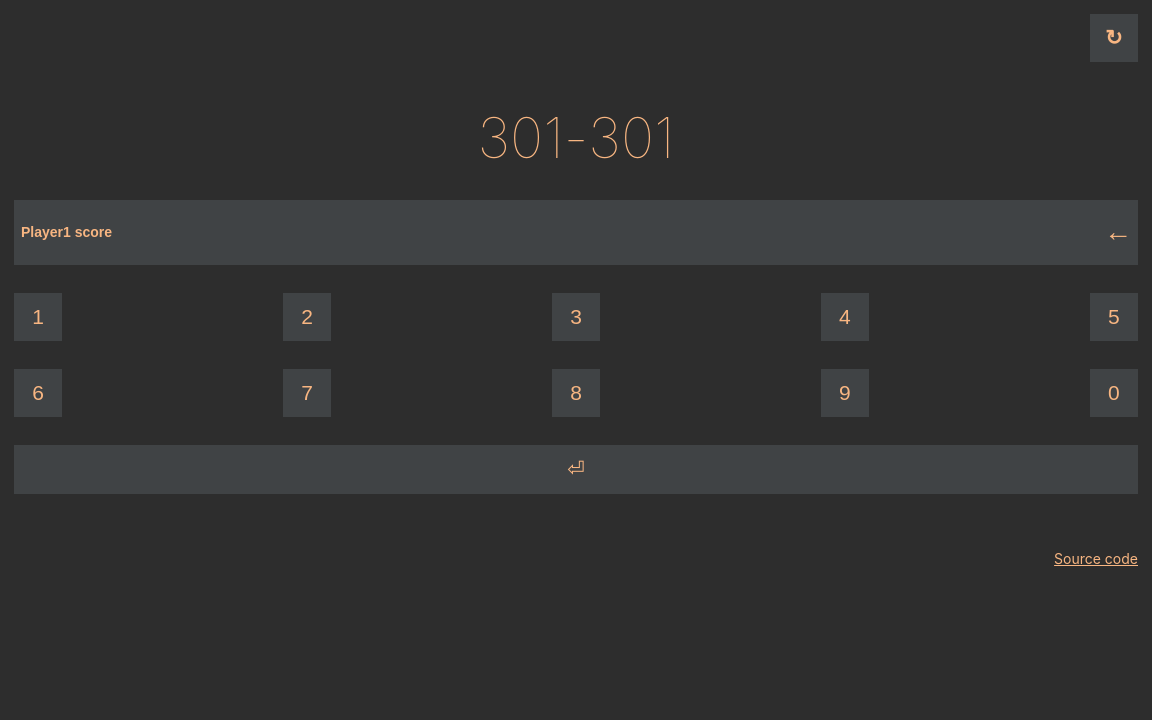
scoreboard › allows players to enter their scores
The width and height of the screenshot is (1152, 720).
Check: the text with test id "player1Score" reads "301", box [478,104,564,172]
Check: the text with test id "player2Score" reads "301", box [588,104,674,172]
// Player1 turn
Click the button with test id "numberButton1": (38, 317) [14,293,62,341]
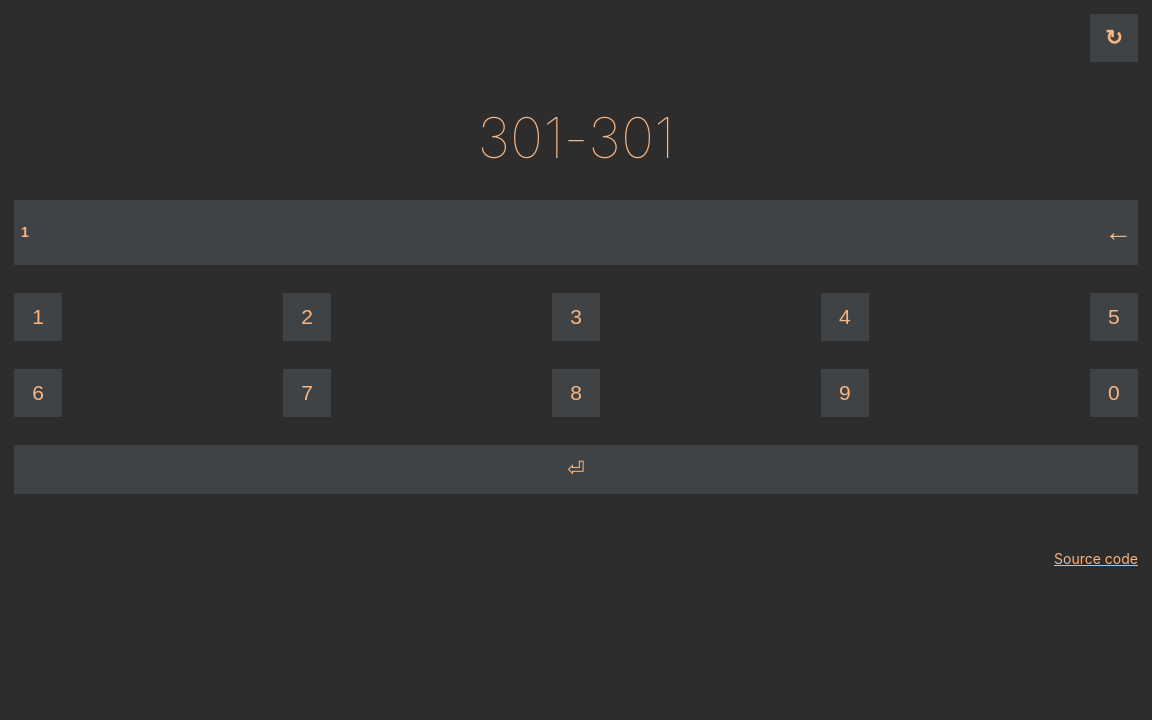
Check: the field with test id "scoreInputValue" holds "1", box [14,200,950,264]
Click the button with test id "enterButton": (576, 469) [14,445,1138,493]
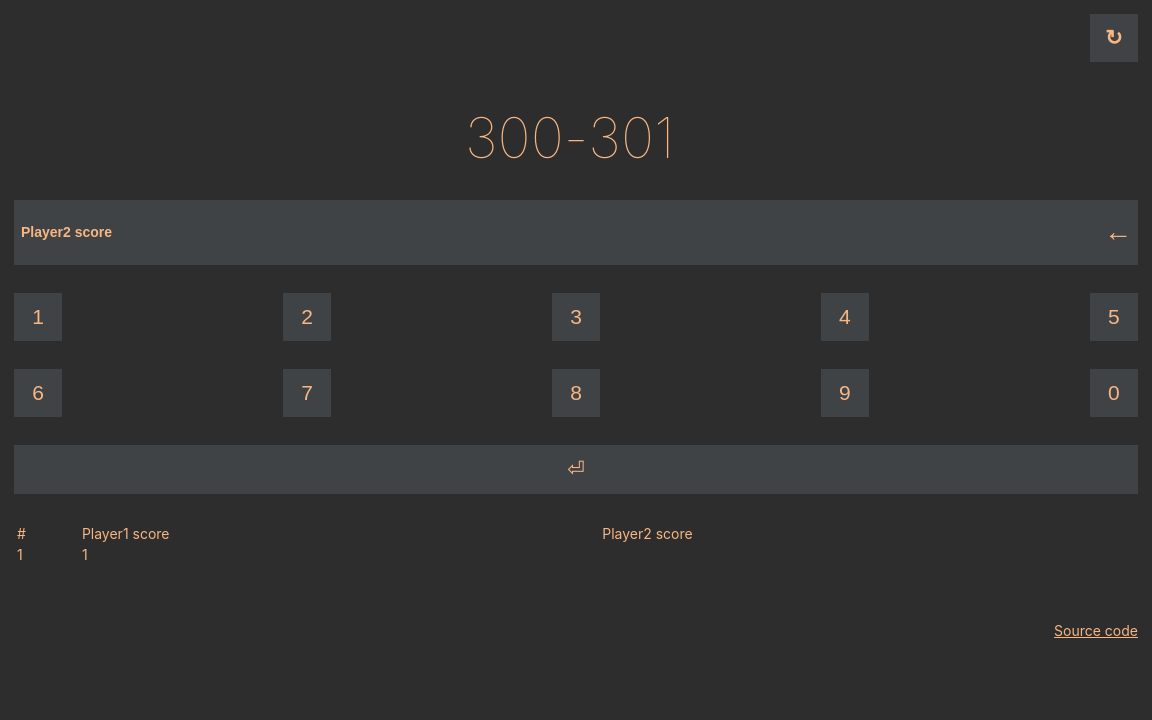
Check: the text with test id "player2Score" reads "301", box [588,104,674,172]
Check: the text with test id "player1Score" reads "300", box [465,104,564,172]
Click the button with test id "numberButton1": (38, 317) [14,293,62,341]
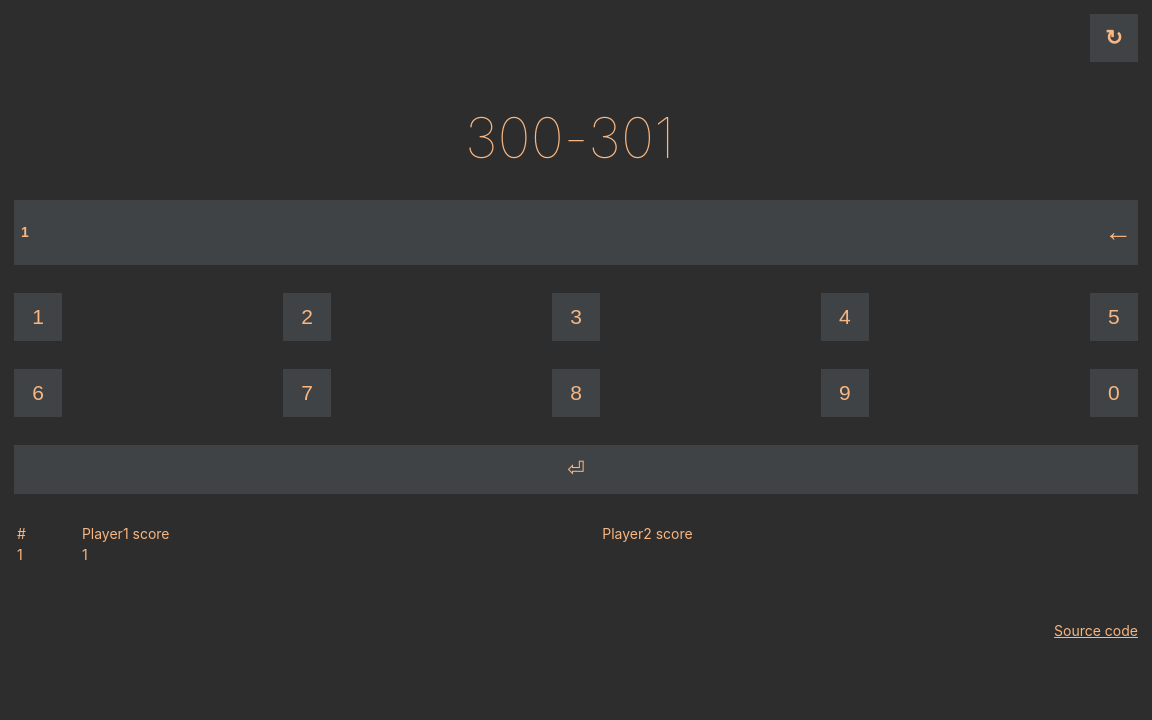
Check: the field with test id "scoreInputValue" holds "1", box [14,200,950,264]
Click the button with test id "enterButton": (576, 469) [14,445,1138,493]
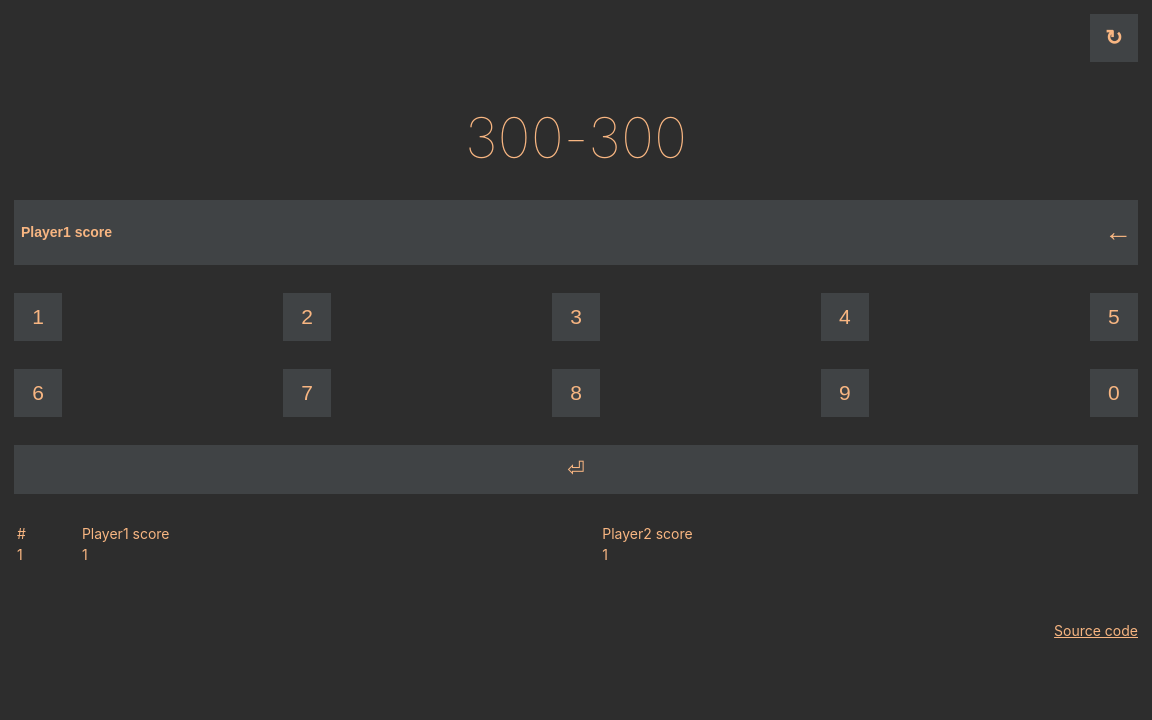
Check: the text with test id "player1Score" reads "300", box [465,104,564,172]
Check: the text with test id "player2Score" reads "300", box [588,104,687,172]
